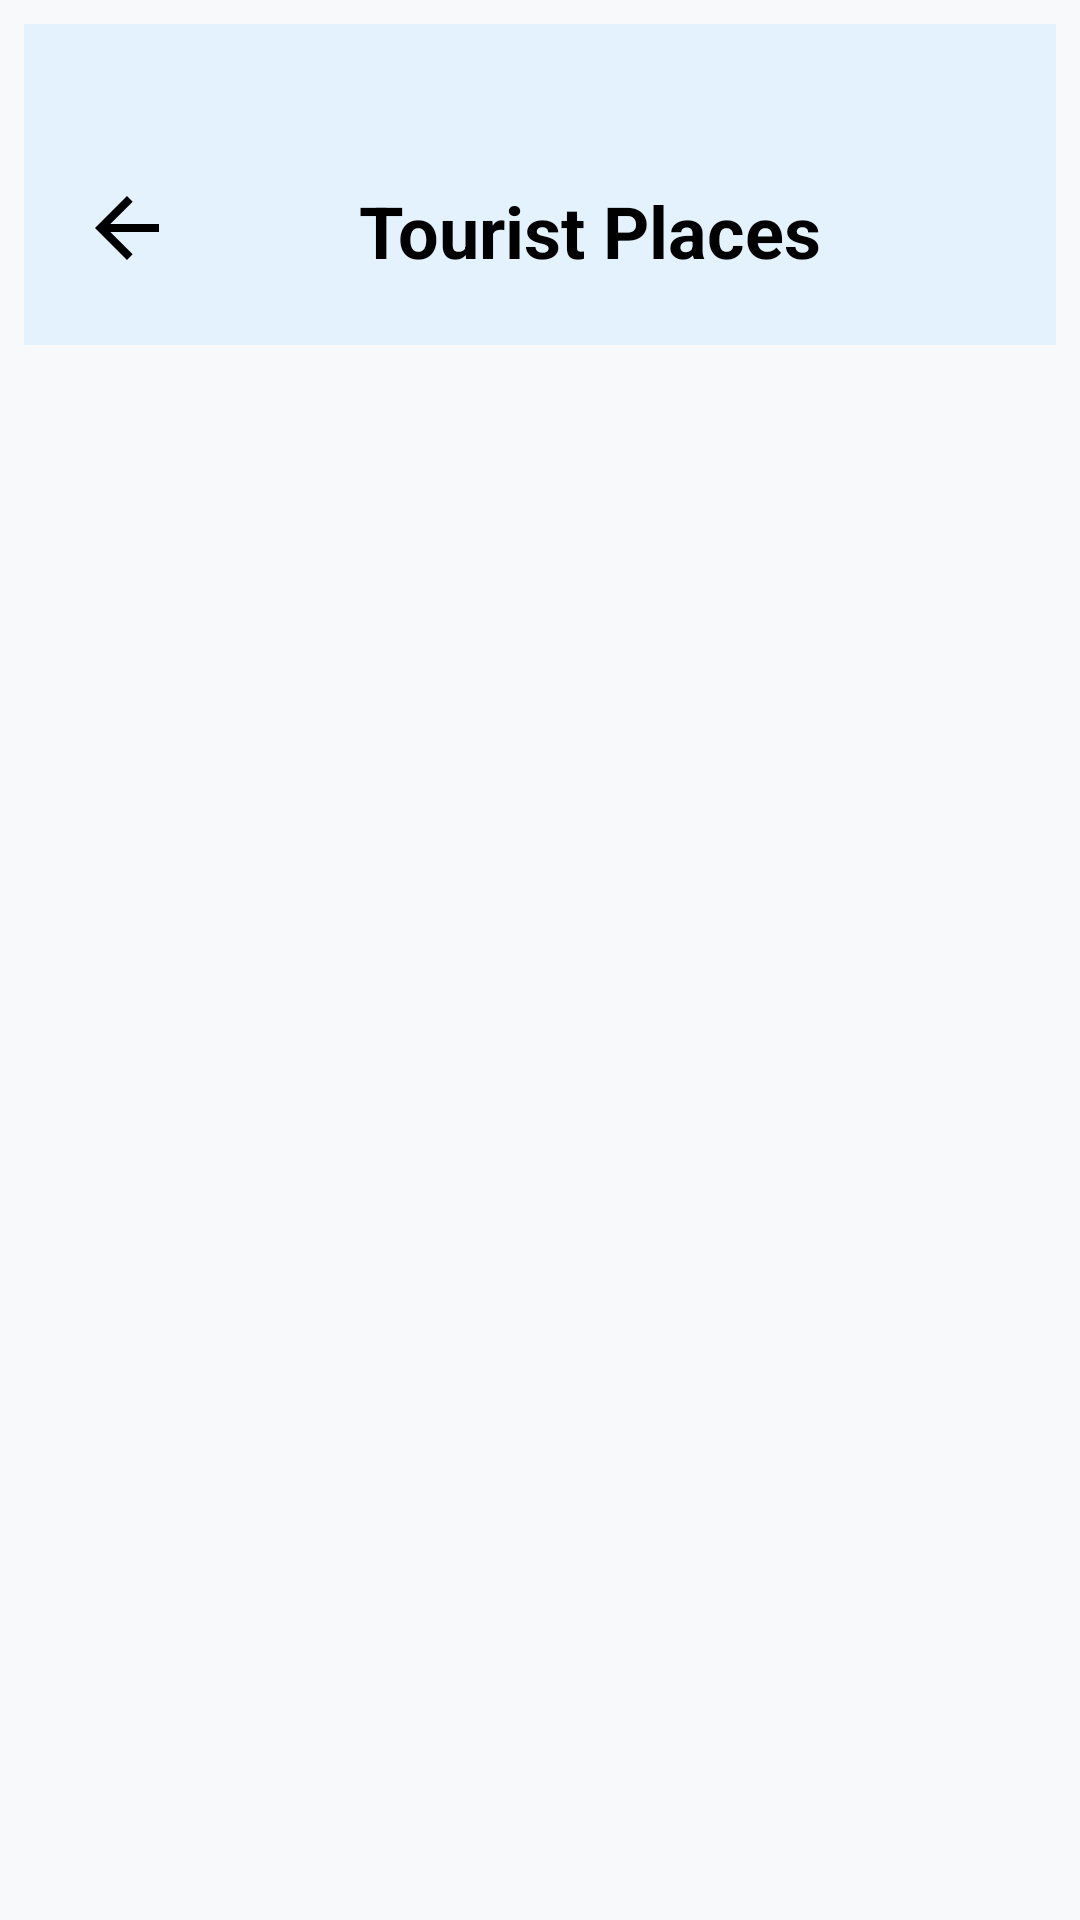

Where to tap for icons on this 1080 × 1920 app screen, as point (x, y):
back: point (127, 228)
